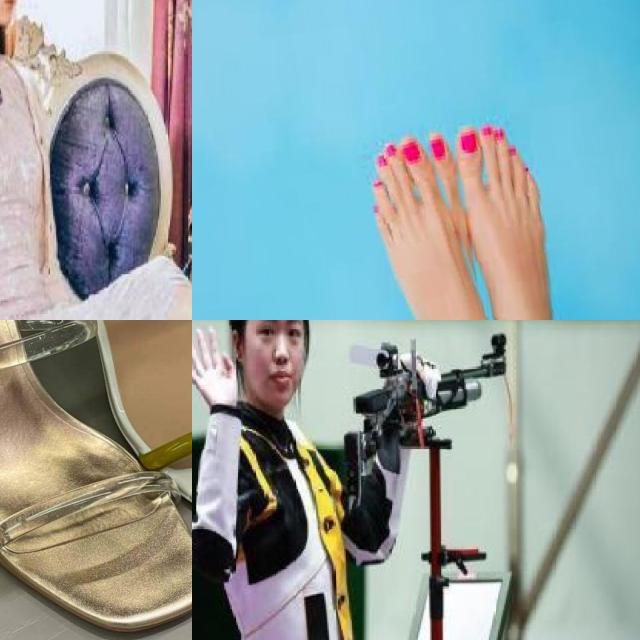Barefoots: (364, 131, 489, 320), (462, 118, 573, 320)
No_Glasses: (252, 320, 301, 347)
Sandals: (0, 320, 192, 640), (23, 320, 192, 559)
face_nomask: (247, 320, 302, 403)
hand_glove: (401, 351, 443, 399)
hand_noglove: (192, 324, 241, 406)
person: (192, 320, 424, 640), (0, 0, 185, 320)
